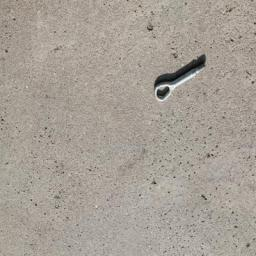FOD: (150, 52, 210, 104)
